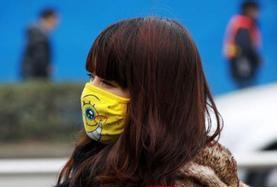OK: (81, 69, 147, 135)
